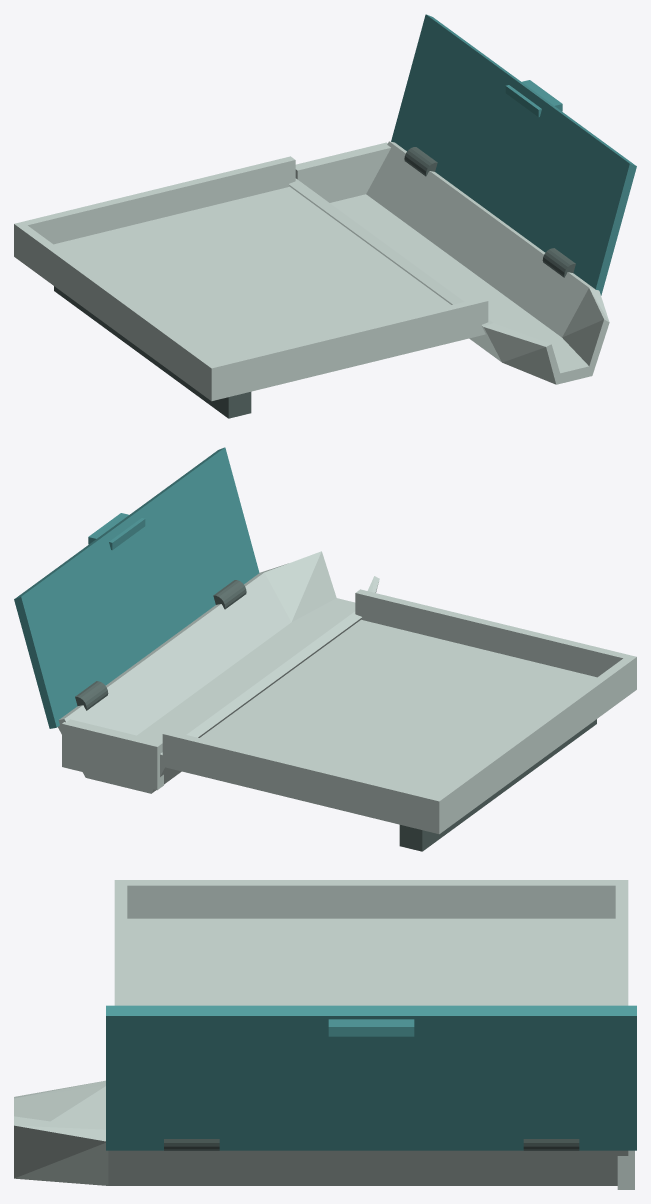
3 views of the same model, one above another, from view 1: azimuth 30°, elevation 25°; view 2: azimuth 150°, elevation 25°; view 3: azimuth 270°, elevation 25° (orthographic). The views are drawn at different scales.
Visible parts, largest first — view 1: WholeFlatDeckAndThreeLowRims, WholeLongRaisedChannelCover, WholeDeepChannelAndTaperedOpenMouth, WholeRearChannelStop, WholeLeftUndersideRunner, WholeBlankCoverLiftTab, WholeBackRootedHinge, WholeFrontRootedHinge; view 2: WholeFlatDeckAndThreeLowRims, WholeLongRaisedChannelCover, WholeDeepChannelAndTaperedOpenMouth, WholeRearChannelStop, WholeLeftUndersideRunner, WholeBlankCoverLiftTab, WholeFrontRootedHinge, WholeBackRootedHinge; view 3: WholeLongRaisedChannelCover, WholeFlatDeckAndThreeLowRims, WholeDeepChannelAndTaperedOpenMouth, WholeBlankCoverLiftTab, WholeBackRootedHinge, WholeFrontRootedHinge, WholeRearChannelStop.
Boxes of the visible parts, bbox=[...] form: WholeFlatDeckAndThreeLowRims: bbox=[14, 156, 488, 401]; WholeLongRaisedChannelCover: bbox=[391, 14, 636, 295]; WholeDeepChannelAndTaperedOpenMouth: bbox=[288, 141, 609, 384]; WholeRearChannelStop: bbox=[295, 142, 390, 202]; WholeLeftUndersideRunner: bbox=[54, 286, 251, 418]; WholeBlankCoverLiftTab: bbox=[505, 80, 562, 117]; WholeBackRootedHinge: bbox=[404, 147, 437, 176]; WholeFrontRootedHinge: bbox=[542, 248, 575, 277]; WholeFlatDeckAndThreeLowRims: bbox=[162, 589, 636, 834]; WholeLongRaisedChannelCover: bbox=[14, 447, 259, 728]; WholeDeepChannelAndTaperedOpenMouth: bbox=[58, 551, 379, 793]; WholeRearChannelStop: bbox=[62, 719, 163, 790]; WholeLeftUndersideRunner: bbox=[399, 719, 596, 851]; WholeBlankCoverLiftTab: bbox=[88, 513, 145, 550]; WholeFrontRootedHinge: bbox=[213, 580, 246, 609]; WholeBackRootedHinge: bbox=[75, 681, 108, 710]; WholeLongRaisedChannelCover: bbox=[106, 1005, 636, 1150]; WholeFlatDeckAndThreeLowRims: bbox=[114, 880, 628, 1005]; WholeDeepChannelAndTaperedOpenMouth: bbox=[14, 1080, 628, 1185]; WholeBlankCoverLiftTab: bbox=[328, 1019, 414, 1036]; WholeBackRootedHinge: bbox=[523, 1139, 579, 1150]; WholeFrontRootedHinge: bbox=[164, 1139, 219, 1150]; WholeRearChannelStop: bbox=[617, 1150, 634, 1189].
Size of the model in its own units: 0.304 by 0.115 by 0.291.
